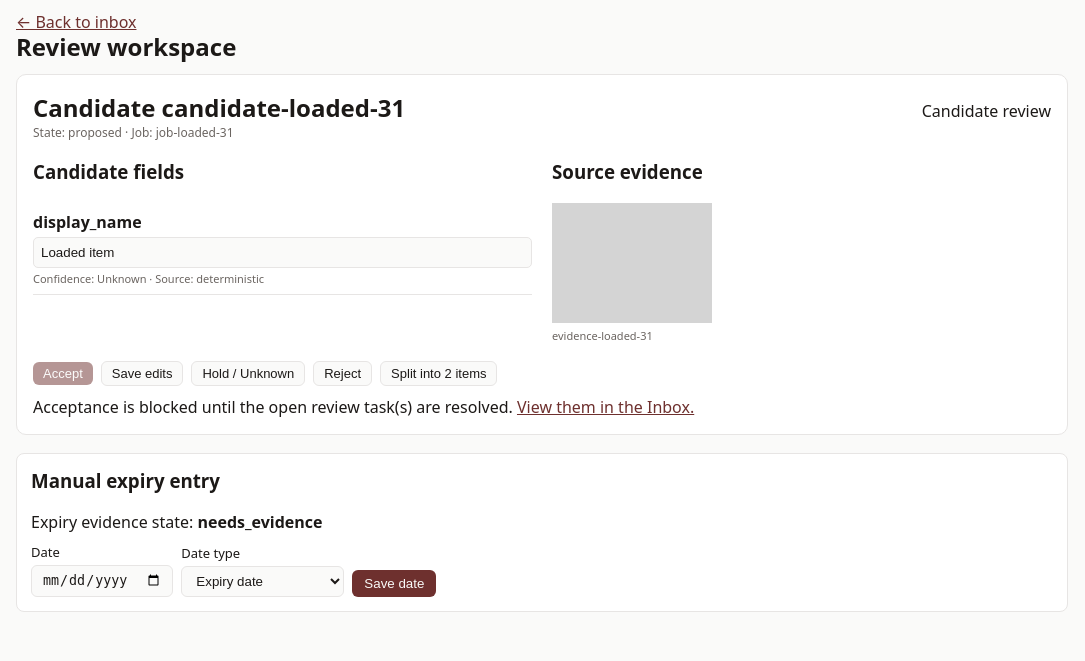
Test: ReviewPage › split rejection surfaces an alert
Expected: the field showing "Loaded item" is shown, [33, 236, 532, 268]
Click the button "Split into 2 items".
click(439, 373)  # box [380, 360, 498, 386]
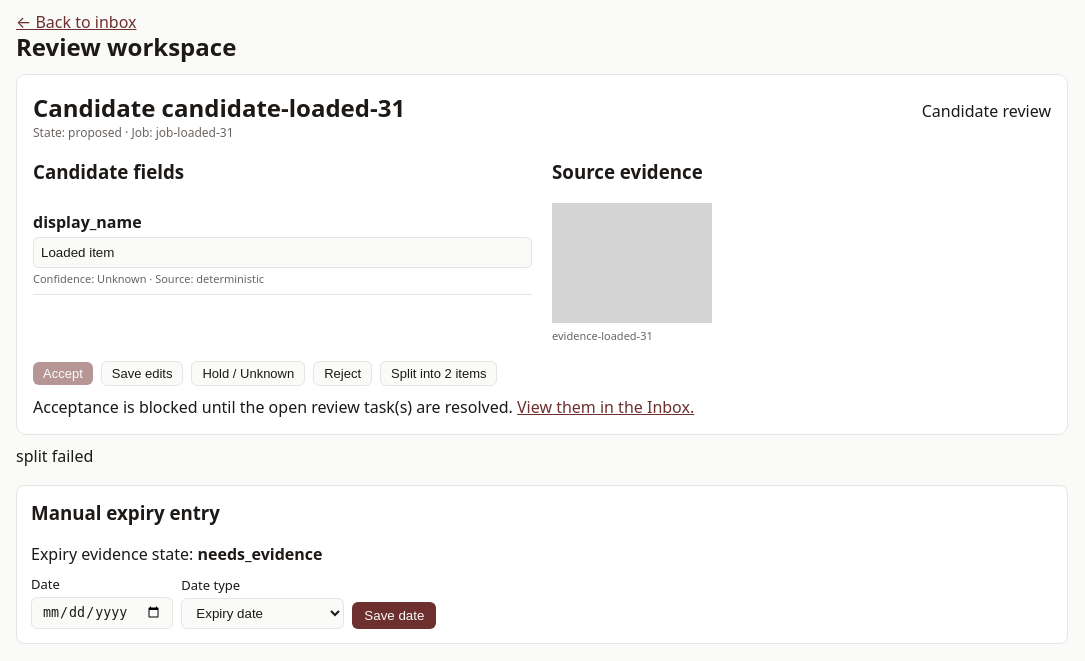
Now the message reads "split failed", box [16, 444, 93, 466]
